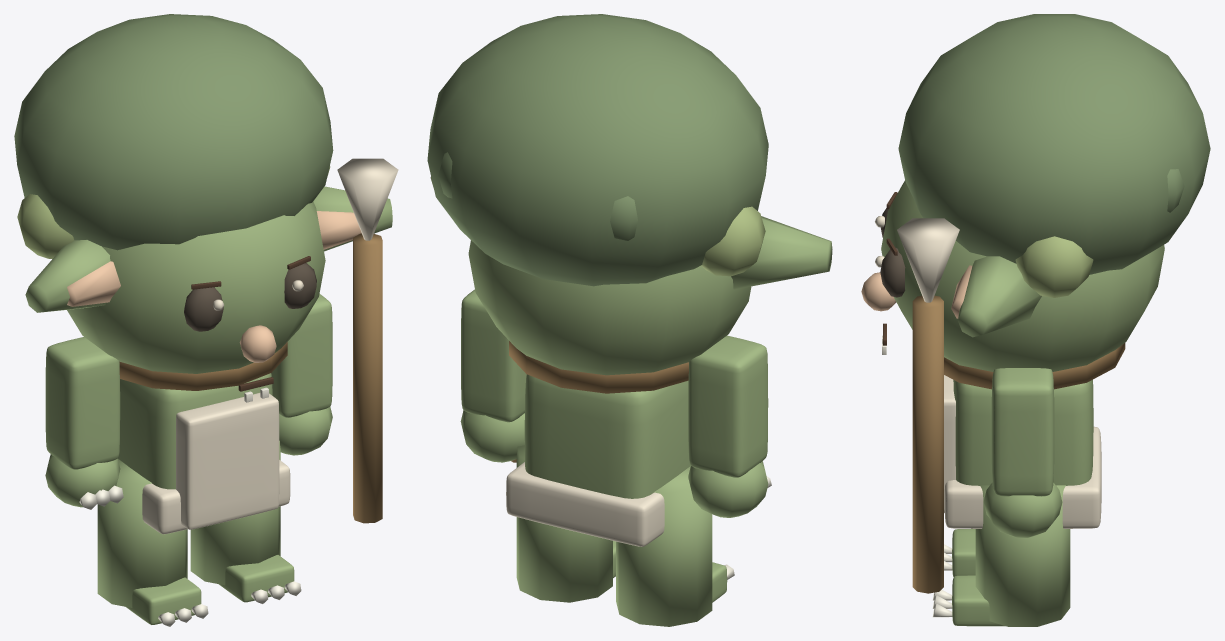
Rendered from bramble_imp_v4.glb.
3 renders of one model, left to right at view 1: azimuth 30°, elevation 25°; view 2: azimuth 150°, elevation 25°; view 3: azimuth 270°, elevation 25°, orthographic. The views are drawn at different scales.
Parts seen in each view (by area): view 1: Hood_Mass, Head_Mesh, Belly_Panel, Sleeve_L, Club_Haft, Trousers_L, Body_Torso, Sleeve_R, Trousers_R, Ear_L, Club_Spike, Fur_Collar (+12 smaller); view 2: Hood_Mass, Head_Mesh, Body_Torso, Trousers_L, Sleeve_L, Skirt, Trousers_R, Sleeve_R, Ear_L, Fur_Collar, Hand_L, Hood_ruffle_side_L (+2 smaller); view 3: Hood_Mass, Head_Mesh, Club_Haft, Trousers_R, Sleeve_R, Body_Torso, Ear_R, Skirt, Hood_ruffle_side_R, Club_Spike, Hand_R, Fur_Collar (+6 smaller).
Part boxes in pixels (x1=…): Hood_Mass: x1=14, y1=14, x2=333, y2=250; Head_Mesh: x1=67, y1=201, x2=325, y2=373; Belly_Panel: x1=176, y1=393, x2=279, y2=529; Sleeve_L: x1=45, y1=337, x2=120, y2=469; Club_Haft: x1=353, y1=233, x2=382, y2=523; Trousers_L: x1=97, y1=459, x2=187, y2=607; Body_Torso: x1=118, y1=373, x2=272, y2=489; Sleeve_R: x1=271, y1=293, x2=332, y2=417; Trousers_R: x1=190, y1=440, x2=280, y2=585; Ear_L: x1=25, y1=240, x2=110, y2=312; Club_Spike: x1=337, y1=158, x2=398, y2=240; Fur_Collar: x1=119, y1=342, x2=287, y2=390; Hood_Mass: x1=427, y1=14, x2=768, y2=286; Head_Mesh: x1=468, y1=240, x2=751, y2=375; Body_Torso: x1=524, y1=374, x2=690, y2=498; Trousers_L: x1=616, y1=466, x2=712, y2=626; Sleeve_L: x1=688, y1=335, x2=768, y2=477; Skirt: x1=506, y1=462, x2=664, y2=546; Trousers_R: x1=516, y1=445, x2=612, y2=602; Sleeve_R: x1=461, y1=289, x2=526, y2=422; Ear_L: x1=731, y1=216, x2=832, y2=289; Fur_Collar: x1=509, y1=341, x2=688, y2=393; Hand_L: x1=688, y1=461, x2=768, y2=517; Hood_ruffle_side_L: x1=701, y1=206, x2=765, y2=276; Hood_Mass: x1=898, y1=14, x2=1210, y2=274; Head_Mesh: x1=881, y1=180, x2=1164, y2=371; Club_Haft: x1=912, y1=295, x2=943, y2=593; Trousers_R: x1=975, y1=485, x2=1070, y2=626; Sleeve_R: x1=991, y1=368, x2=1054, y2=496; Body_Torso: x1=953, y1=379, x2=1093, y2=485; Ear_R: x1=958, y1=256, x2=1041, y2=337; Skirt: x1=944, y1=426, x2=1101, y2=528; Hood_ruffle_side_R: x1=1015, y1=236, x2=1093, y2=297; Club_Spike: x1=897, y1=218, x2=959, y2=302; Hand_R: x1=983, y1=482, x2=1062, y2=537; Fur_Collar: x1=944, y1=343, x2=1125, y2=389.
Bounding box in the file's own units: 0.5452 × 0.7819 × 0.443.
